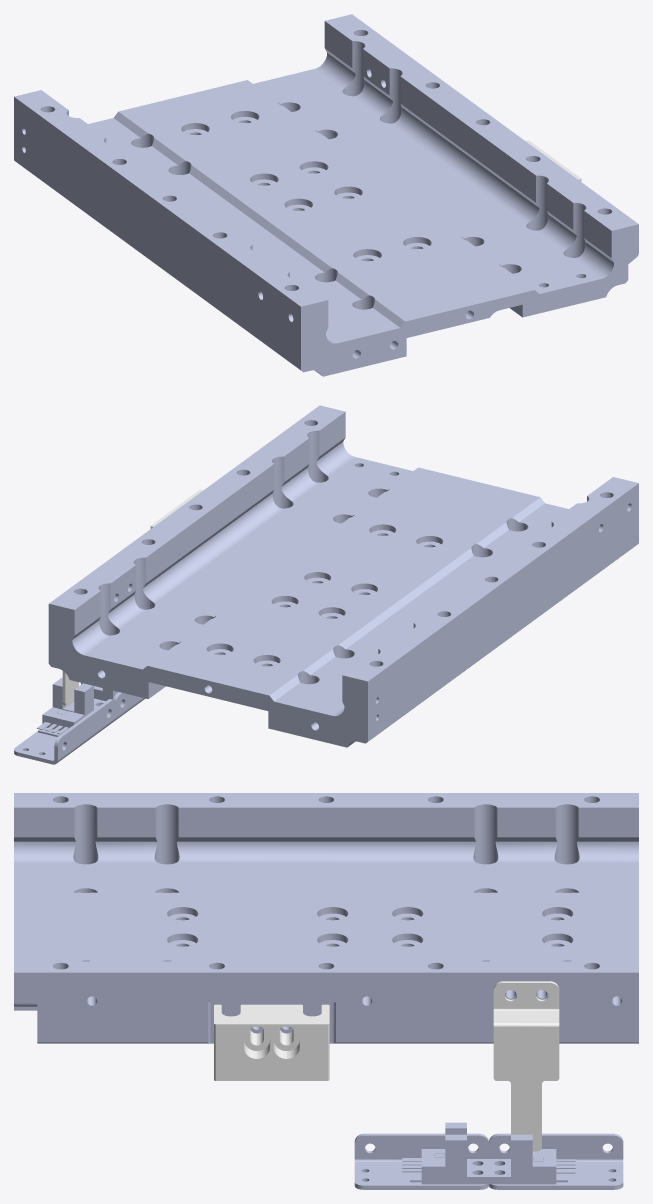
The model's file is MTA-9.glb.
3 views of the same model, one above another, from view 1: azimuth 30°, elevation 25°; view 2: azimuth 150°, elevation 25°; view 3: azimuth 270°, elevation 25° (orthographic). The views are drawn at different scales.
Parts seen in each view (by area): view 1: 134X-12-MTA9-23091201_node; view 2: 134X-12-MTA9-23091201_node, 134X-30-1_X2_5f0051735b8988c5652f67b6_X0_V1.0_node, SH-SL674_X2_5f005173_X0__node_1; view 3: 134X-12-MTA9-23091201_node, 134X-101-5_X2_8bfb657059348fde63a55757_X0_V1.0_node, 134X-31-1 _X2_59167f6e906e632194a391d1_X0_V1.0_node, 134X-30-1_X2_5f0051735b8988c5652f67b6_X0_V1.0_node_1, 134X-30-1_X2_5f0051735b8988c5652f67b6_X0_V1.0_node, SH-SL674_X2_5f005173_X0__node, SH-SL674_X2_5f005173_X0__node_1.
Part boxes in pixels (x1,y1,x2,y2): 134X-12-MTA9-23091201_node: [14, 14, 638, 376]; 134X-12-MTA9-23091201_node: [48, 405, 638, 747]; 134X-30-1_X2_5f0051735b8988c5652f67b6_X0_V1.0_node: [14, 699, 116, 764]; SH-SL674_X2_5f005173_X0__node_1: [37, 677, 95, 736]; 134X-12-MTA9-23091201_node: [14, 793, 638, 1043]; 134X-101-5_X2_8bfb657059348fde63a55757_X0_V1.0_node: [214, 1004, 329, 1080]; 134X-31-1 _X2_59167f6e906e632194a391d1_X0_V1.0_node: [493, 981, 559, 1151]; 134X-30-1_X2_5f0051735b8988c5652f67b6_X0_V1.0_node_1: [354, 1133, 488, 1189]; 134X-30-1_X2_5f0051735b8988c5652f67b6_X0_V1.0_node: [489, 1133, 623, 1189]; SH-SL674_X2_5f005173_X0__node: [402, 1122, 488, 1184]; SH-SL674_X2_5f005173_X0__node_1: [489, 1134, 575, 1184].
Size of the model in its own units: 155 by 67.8 by 200.
